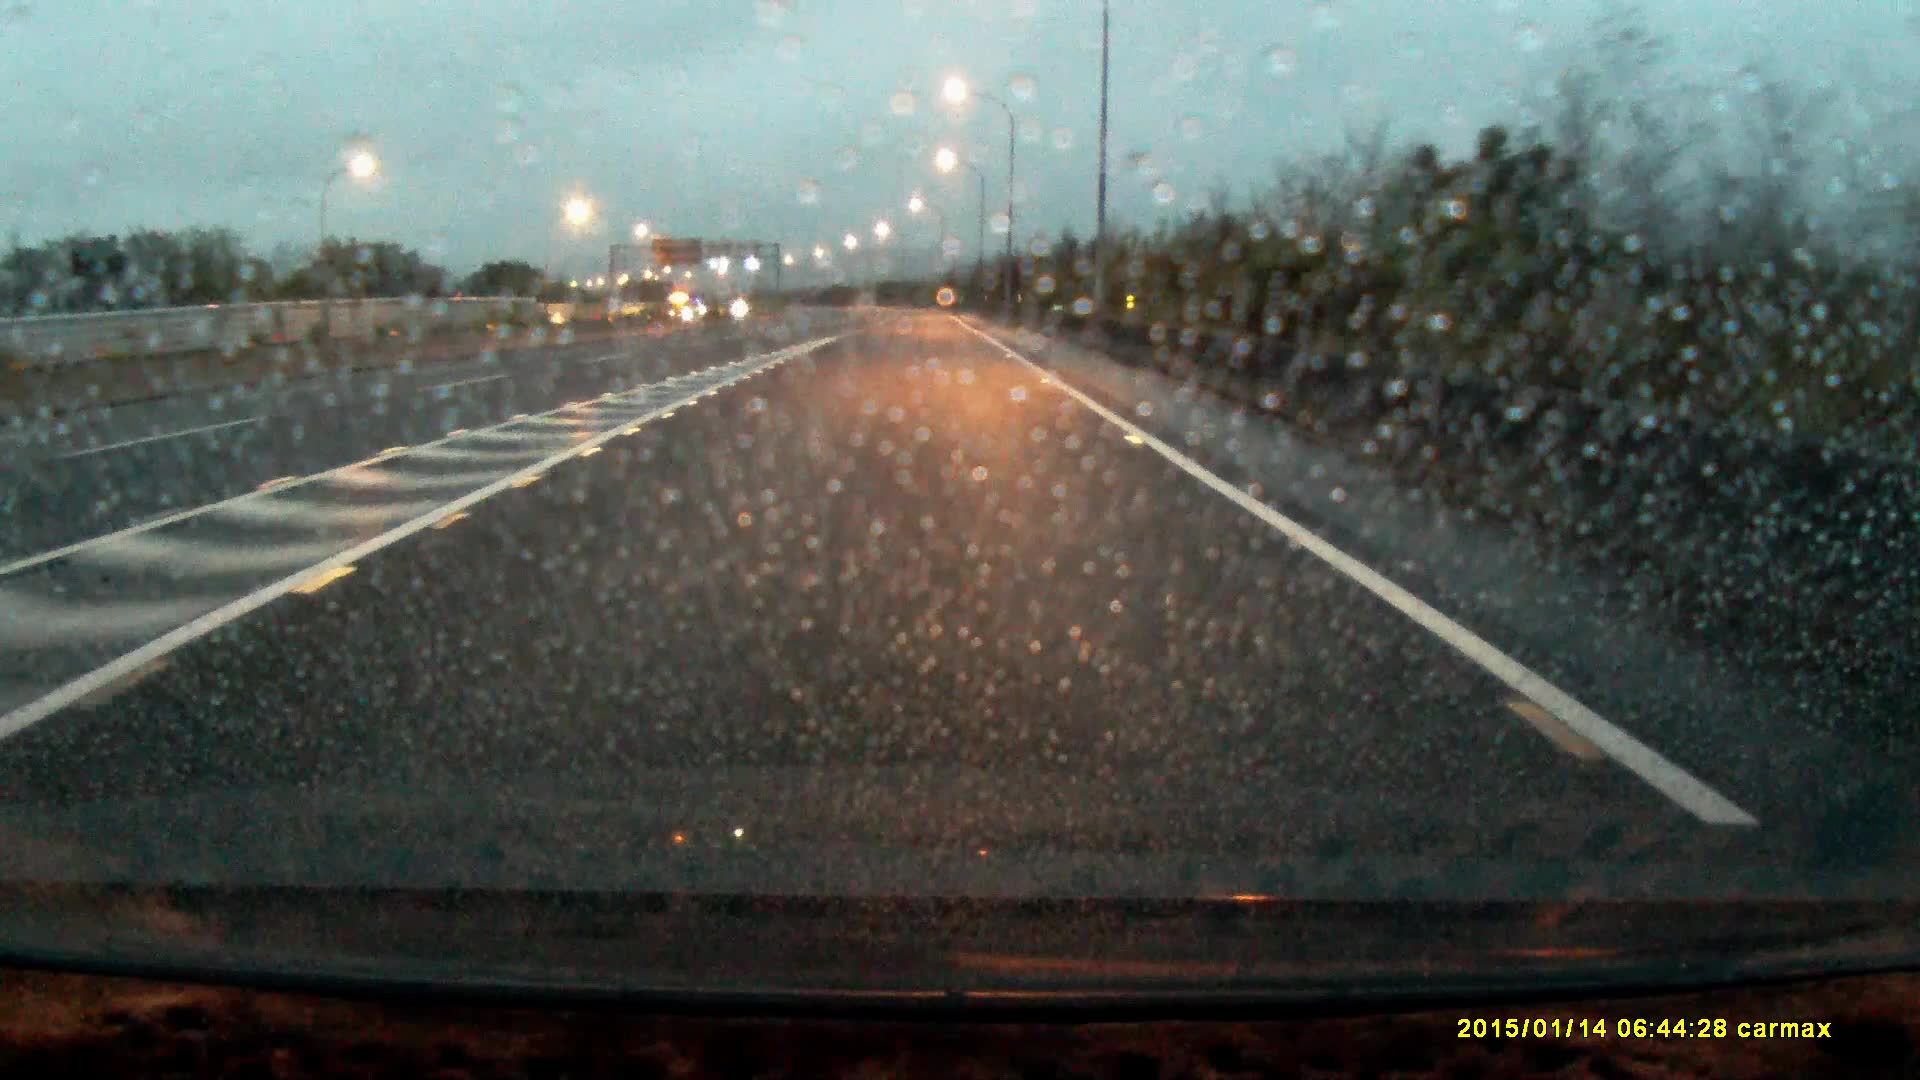vehicle: (669, 298, 699, 326)
